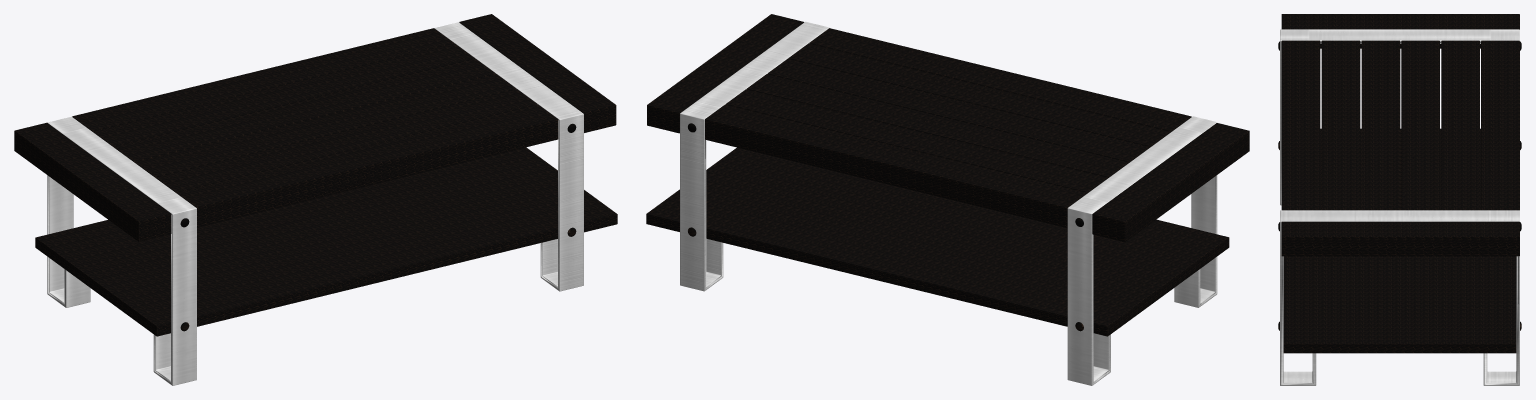
File: banca.obj
3 renders of one model, left to right at view 1: azimuth 30°, elevation 25°; view 2: azimuth 150°, elevation 25°; view 3: azimuth 270°, elevation 25°, orthographic. The views are drawn at different scales.
Parts seen in each view (by area): view 1: ChamferBox003, Box006, Line001, Line012, Box004, Box002, Box003, Box005, Box001, Box008, Box007; view 2: ChamferBox003, Box001, Line001, Line012, Box002, Box005, Box006, Box003, Box004, Box008, Box007; view 3: ChamferBox003, Box007, Box004, Box005, Box006, Box001, Box002, Box003, Line012, Box008, Line001.
Boxes of the visible parts, x1=… form: ChamferBox003: x1=35, y1=147, x2=617, y2=336; Box006: x1=176, y1=104, x2=558, y2=227; Line001: x1=47, y1=116, x2=196, y2=385; Line012: x1=434, y1=22, x2=583, y2=291; Box004: x1=134, y1=74, x2=516, y2=177; Box002: x1=93, y1=43, x2=474, y2=147; Box003: x1=114, y1=58, x2=495, y2=162; Box005: x1=155, y1=89, x2=537, y2=192; Box001: x1=72, y1=28, x2=453, y2=131; Box008: x1=14, y1=122, x2=171, y2=241; Box007: x1=459, y1=14, x2=616, y2=132; ChamferBox003: x1=646, y1=147, x2=1229, y2=336; Box001: x1=705, y1=104, x2=1087, y2=227; Line001: x1=1067, y1=116, x2=1217, y2=385; Line012: x1=680, y1=21, x2=829, y2=291; Box002: x1=725, y1=89, x2=1107, y2=193; Box005: x1=788, y1=43, x2=1170, y2=147; Box006: x1=809, y1=28, x2=1191, y2=131; Box003: x1=747, y1=74, x2=1128, y2=177; Box004: x1=767, y1=58, x2=1149, y2=162; Box008: x1=1092, y1=123, x2=1249, y2=242; Box007: x1=647, y1=14, x2=803, y2=133; ChamferBox003: x1=1283, y1=128, x2=1516, y2=353; Box007: x1=1281, y1=221, x2=1519, y2=256; Box004: x1=1361, y1=40, x2=1400, y2=210; Box005: x1=1321, y1=40, x2=1360, y2=210; Box006: x1=1281, y1=40, x2=1320, y2=210; Box001: x1=1481, y1=40, x2=1519, y2=210; Box002: x1=1441, y1=40, x2=1479, y2=210; Box003: x1=1401, y1=40, x2=1439, y2=210; Line012: x1=1280, y1=210, x2=1519, y2=385; Box008: x1=1281, y1=14, x2=1519, y2=48; Line001: x1=1280, y1=29, x2=1519, y2=205.
Bounding box in the file's own units: 57.41 × 19.7 × 26.37.
